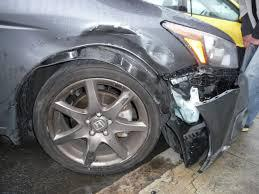fender-dent: (9, 19, 162, 71)
front-bumper-dent: (178, 78, 248, 152)
